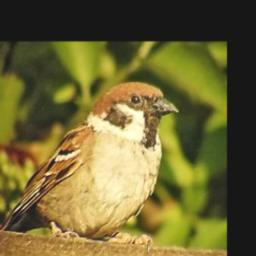Sparrow: (0, 79, 182, 252)
